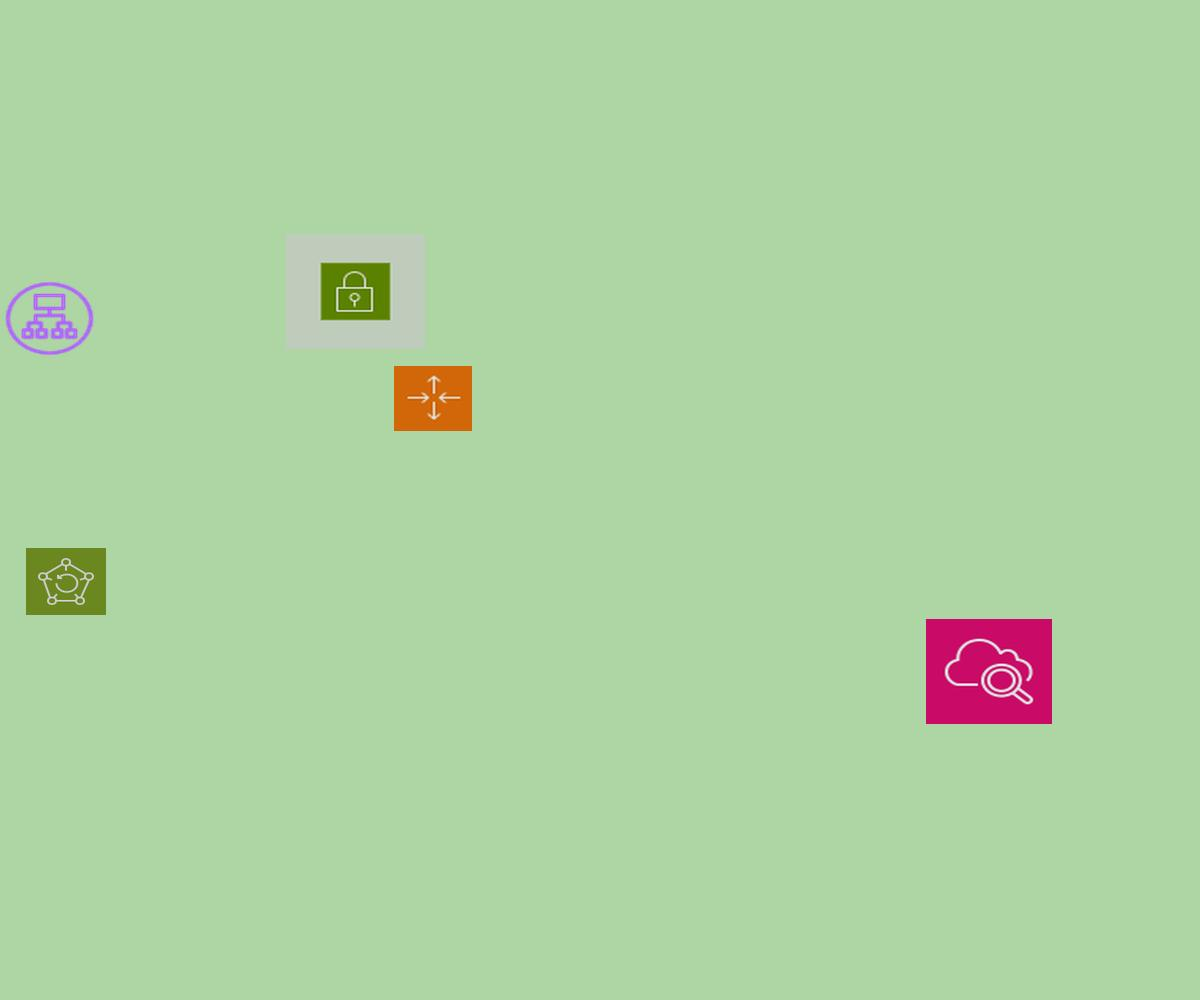AWS-Backup: (26, 548, 106, 615)
AWS-CloudWatch: (926, 619, 1052, 724)
AWS-Public-subnet: (286, 234, 425, 349)
AWS-Res_Elastic-Load-Balancing_Application-Load-Balancer: (2, 279, 97, 358)
AWS-Scaling-group: (394, 366, 472, 431)
